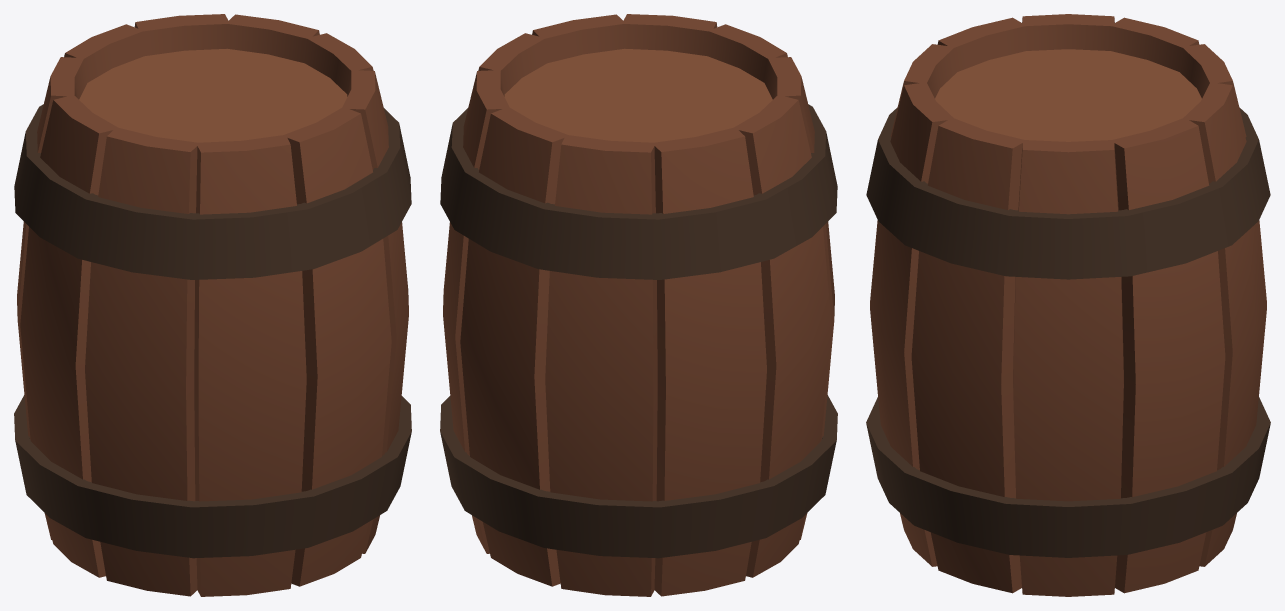
Rendered from Barrel_01.fbx.
3 renders of one model, left to right at view 1: azimuth 30°, elevation 25°; view 2: azimuth 150°, elevation 25°; view 3: azimuth 270°, elevation 25°, orthographic.
Parts seen in each view (by area): view 1: Barrel_01; view 2: Barrel_01; view 3: Barrel_01.
Boxes of the visible parts, x1,y1,x2,y2 form: Barrel_01: (14, 14, 411, 596); Barrel_01: (440, 14, 837, 596); Barrel_01: (866, 14, 1270, 596).
Size of the model in its own units: 0.5587 by 0.6847 by 0.5649.
